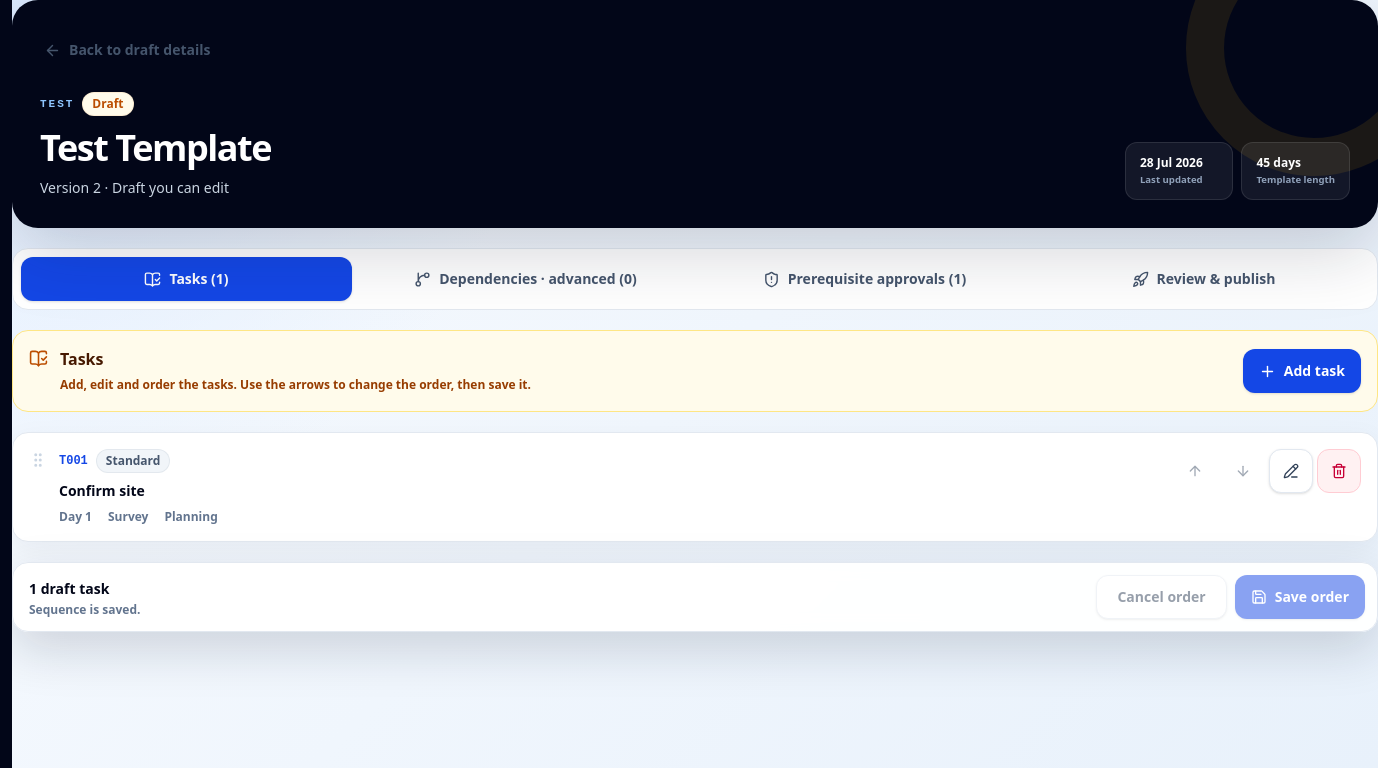
Test: review and publish › lets warnings through to publishing
The width and height of the screenshot is (1378, 768).
Check: the element with test id "draft-task-T001" is shown, box 12,432 -> 1377,542
What coordinates should you click on to do the following:
click the button "Review & publish"
I would click on:
 (1204, 279)
Its box is 1038,257 -> 1369,301.
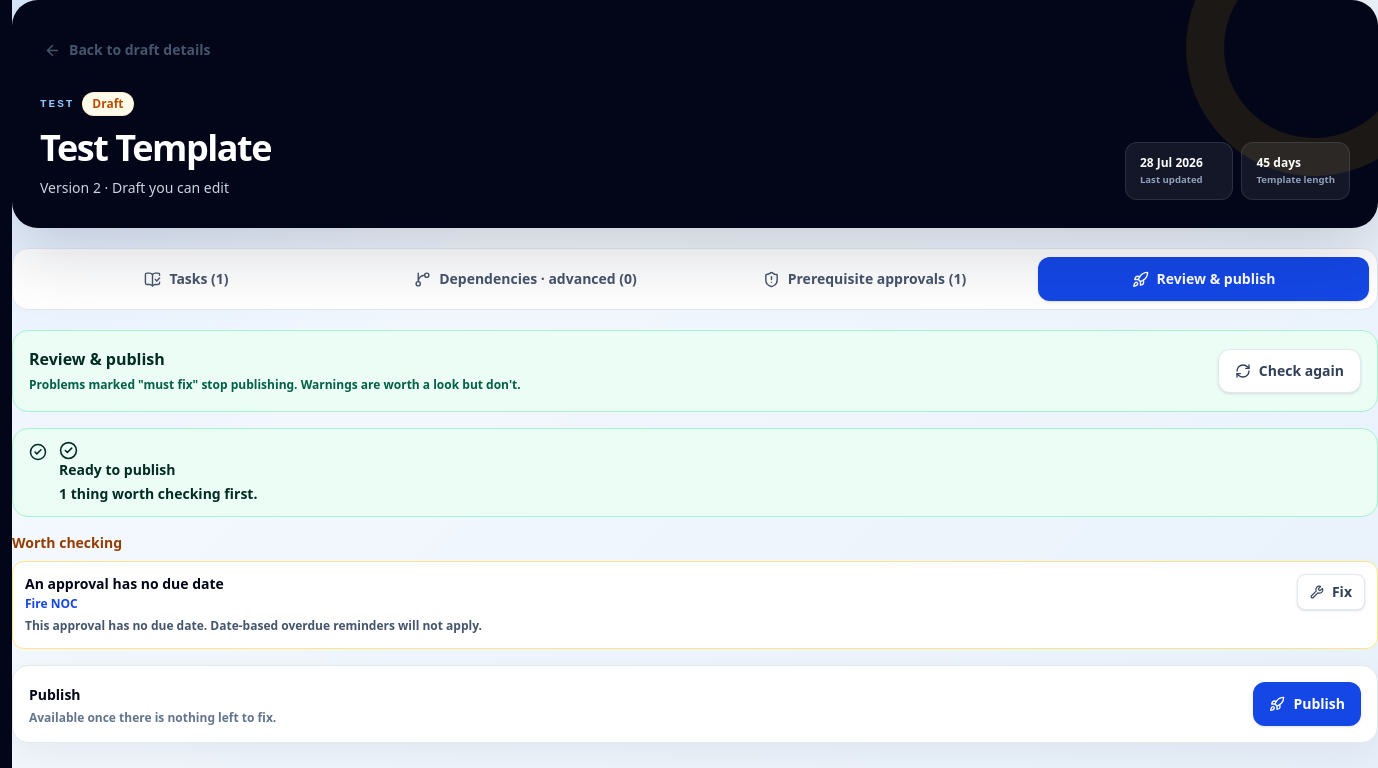
Check: the text "1 thing worth checking first." is shown, box 59,484 -> 257,503
Check: the button "Publish" is enabled, box 1253,682 -> 1361,726
